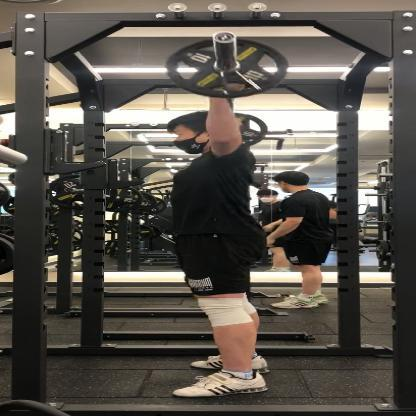Barbell: (214, 31, 240, 46)
